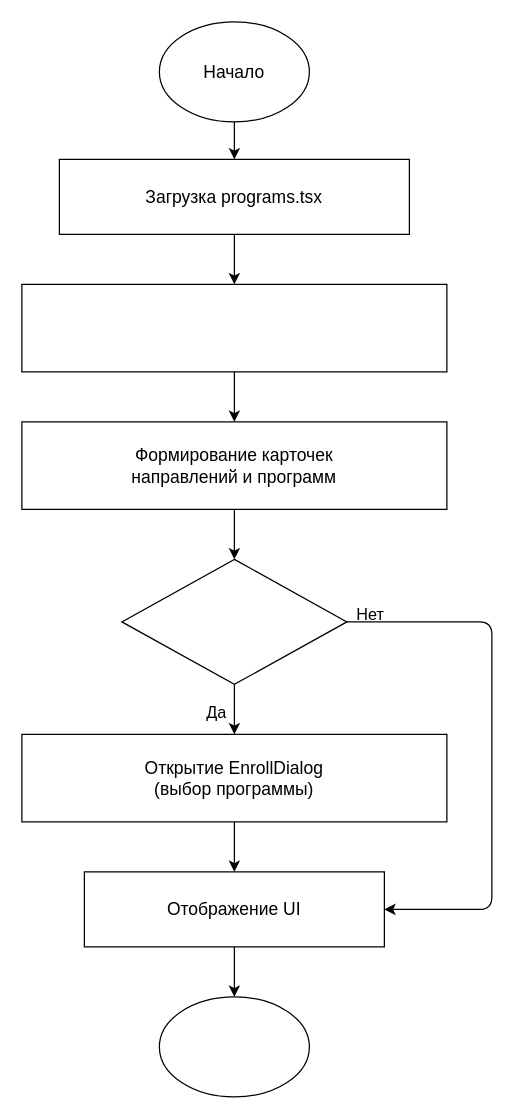
This 524x1119 diagram has some shape labels left out. Here are the shapes that lost their labels. From the top down, the box of each, then its label:
(21, 283, 447, 372): Загрузка статических данных (направления, модули, статистика)
(121, 558, 347, 684): Пользователь нажал «Записаться»?
(158, 996, 309, 1097): Конец
